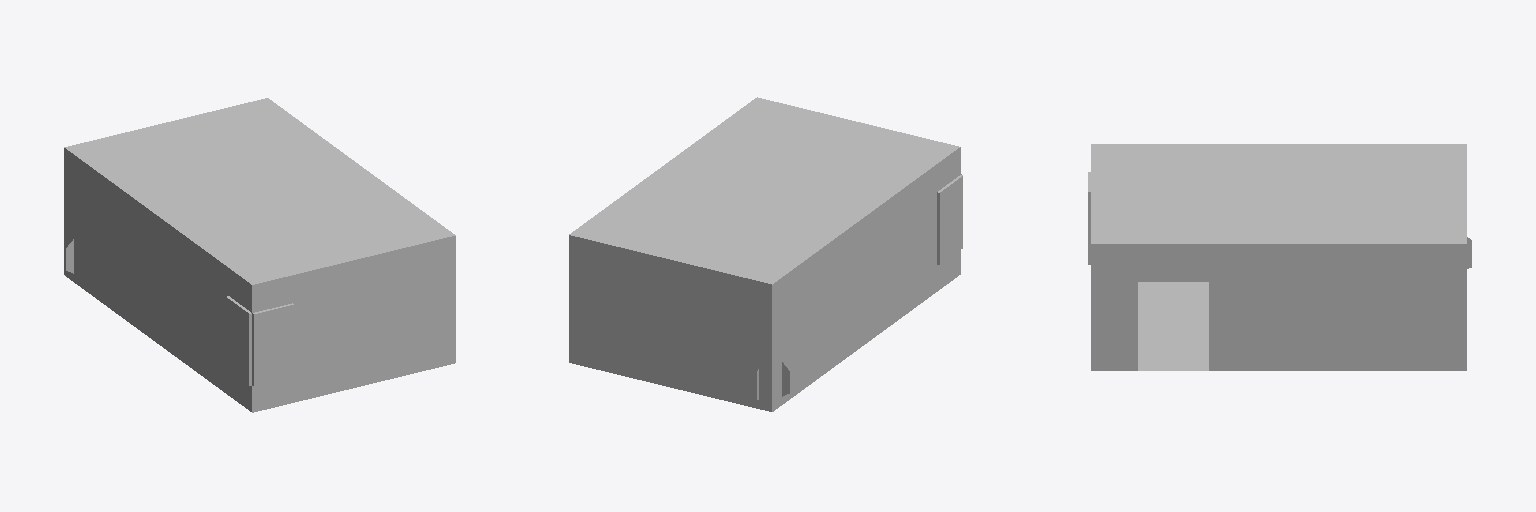
The model's file is sala.obj.
3 views of the same model, side by side, from view 1: azimuth 30°, elevation 25°; view 2: azimuth 150°, elevation 25°; view 3: azimuth 270°, elevation 25° (orthographic).
Parts seen in each view (by area): view 1: Plafon_Plane.005, Wall.001_Plane.001, Wall_Plane.004, Picture_Cube.168, Window.001_Cube.099, Window.002_Cube.011, UpperPlafon_Cube.006; view 2: Plafon_Plane.005, Wall.001_Plane.001, Wall.003_Plane.003, Misc.001_Cube.009, Misc_Cube.007, Window.002_Cube.011, Cube.001_Cube.079, Cube.011_Cube.151; view 3: Plafon_Plane.005, Wall.002_Plane.002, Floor_Plane.
Boxes of the visible parts, <box> form: Plafon_Plane.005: <box>64,98,455,284</box>; Wall.001_Plane.001: <box>64,148,251,411</box>; Wall_Plane.004: <box>252,236,455,412</box>; Picture_Cube.168: <box>334,274,416,340</box>; Window.001_Cube.099: <box>252,303,294,386</box>; Window.002_Cube.011: <box>226,296,251,385</box>; UpperPlafon_Cube.006: <box>238,174,297,208</box>; Plafon_Plane.005: <box>569,97,959,284</box>; Wall.001_Plane.001: <box>772,147,960,410</box>; Wall.003_Plane.003: <box>569,235,771,403</box>; Misc.001_Cube.009: <box>595,261,615,365</box>; Misc_Cube.007: <box>726,293,745,396</box>; Window.002_Cube.011: <box>937,175,962,264</box>; Cube.001_Cube.079: <box>569,241,816,294</box>; Cube.011_Cube.151: <box>620,348,721,384</box>; Plafon_Plane.005: <box>1091,144,1466,243</box>; Wall.002_Plane.002: <box>1091,244,1466,370</box>; Floor_Plane: <box>1138,282,1208,370</box>.
Bounding box in the file's own units: 5.19 × 3 × 8.17.